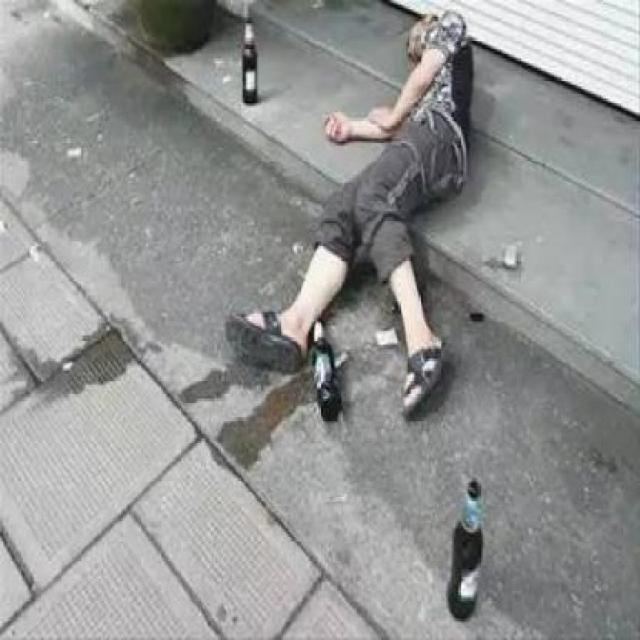fall: (208, 0, 490, 437)
